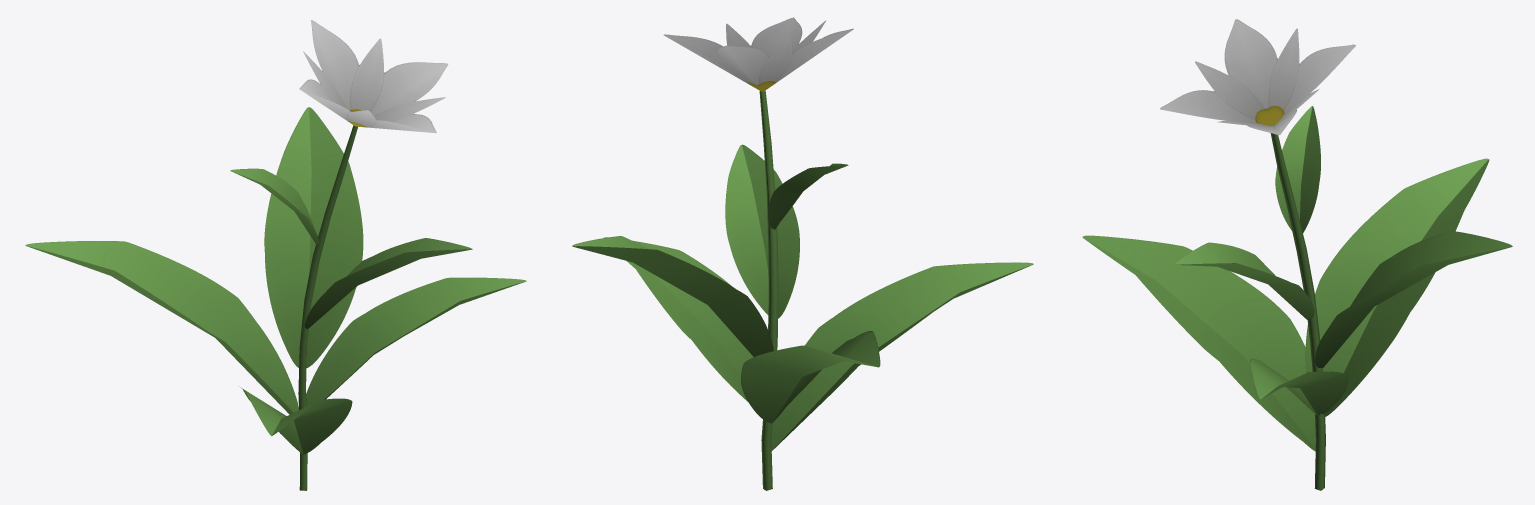
The model's file is Flowers_6.fbx.
3 views of the same model, side by side, from view 1: azimuth 30°, elevation 25°; view 2: azimuth 150°, elevation 25°; view 3: azimuth 270°, elevation 25° (orthographic).
Parts seen in each view (by area): view 1: Flowers_6_LOD0; view 2: Flowers_6_LOD0; view 3: Flowers_6_LOD0.
Boxes of the visible parts, x1,y1,x2,y2 form: Flowers_6_LOD0: (25,20,526,490); Flowers_6_LOD0: (572,17,1033,490); Flowers_6_LOD0: (1082,19,1512,490).
Size of what is drawn, in the model's own units: 30.29 by 32.55 by 28.7.
